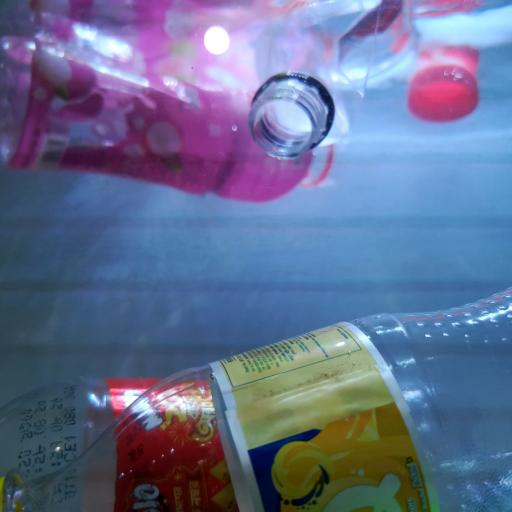bottle_cap: (406, 56, 480, 126)
plastic_bottle: (0, 287, 512, 512), (1, 372, 457, 512), (3, 32, 347, 207), (249, 0, 425, 165)
